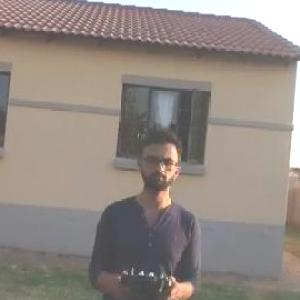follow: (89, 124, 214, 299)
